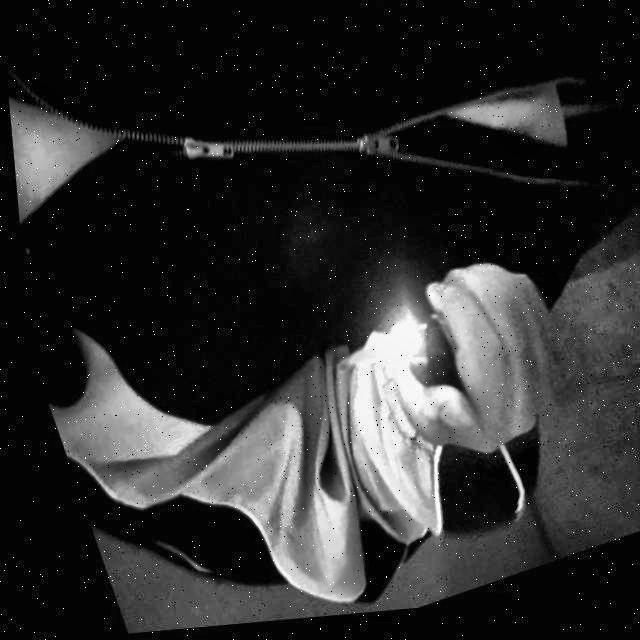Fire: (323, 327, 416, 381)
